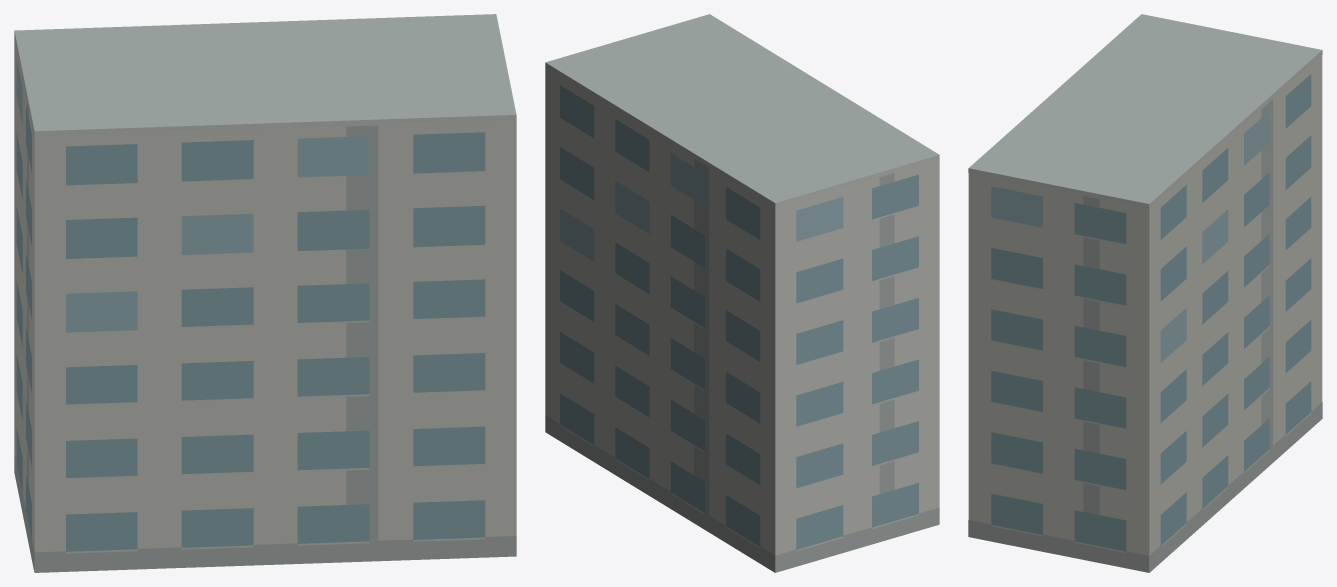
Rendered from survey-upis-32969576.glb.
3 renders of one model, left to right at view 1: azimuth 30°, elevation 25°; view 2: azimuth 150°, elevation 25°; view 3: azimuth 270°, elevation 25°, orthographic. The views are drawn at different scales.
Visible parts, largest first — view 1: survey-upis-32969576.tmp; view 2: survey-upis-32969576.tmp; view 3: survey-upis-32969576.tmp.
Boxes of the visible parts, x1=… form: survey-upis-32969576.tmp: x1=14, y1=14, x2=516, y2=572; survey-upis-32969576.tmp: x1=545, y1=14, x2=939, y2=572; survey-upis-32969576.tmp: x1=968, y1=14, x2=1322, y2=572.
Size of the model in its own units: 20.24 by 18.3 by 15.93.
